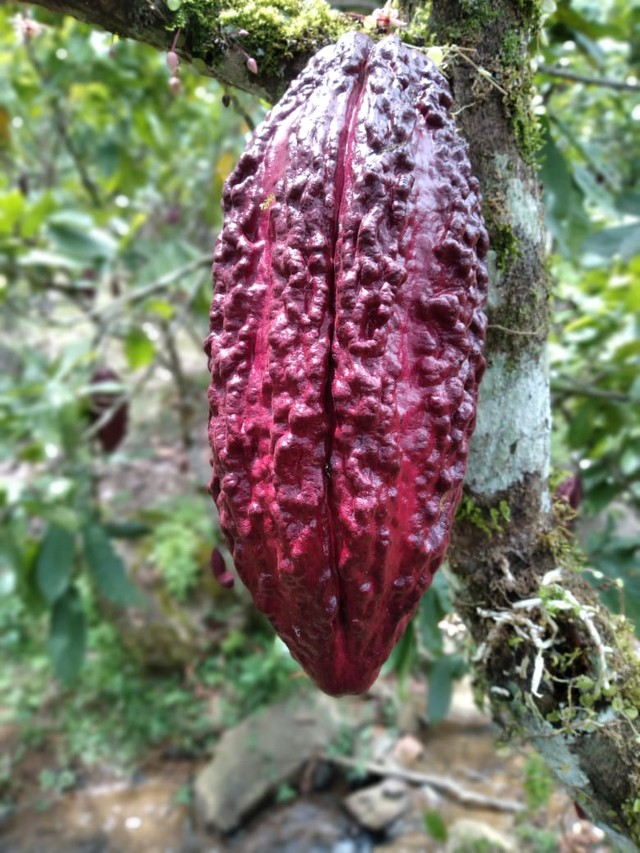Health: (199, 24, 496, 700)
